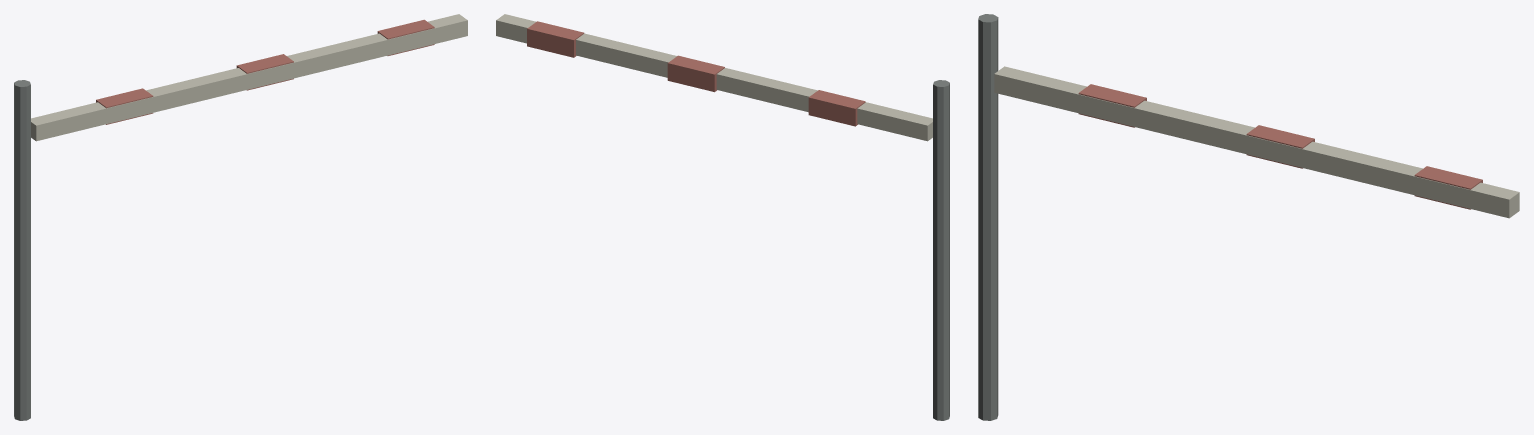
Rendered from road_gate.glb.
The picture shows the model from 3 angles, left to right: view 1: azimuth 30°, elevation 25°; view 2: azimuth 150°, elevation 25°; view 3: azimuth 330°, elevation 25°; orthographic projection. The views are drawn at different scales.
Parts seen in each view (by area): view 1: arm_1, post_0, stripe_2, stripe_3, stripe_4; view 2: arm_1, post_0, stripe_3, stripe_2, stripe_4; view 3: arm_1, post_0, stripe_3, stripe_4, stripe_2.
Part boxes in pixels (x1=…): arm_1: x1=31, y1=14, x2=467, y2=141; post_0: x1=14, y1=80, x2=30, y2=420; stripe_2: x1=96, y1=88, x2=153, y2=124; stripe_3: x1=236, y1=54, x2=293, y2=90; stripe_4: x1=377, y1=19, x2=434, y2=55; arm_1: x1=496, y1=14, x2=932, y2=141; post_0: x1=933, y1=80, x2=949, y2=420; stripe_3: x1=667, y1=55, x2=724, y2=92; stripe_2: x1=808, y1=90, x2=865, y2=126; stripe_4: x1=527, y1=21, x2=584, y2=57; arm_1: x1=994, y1=66, x2=1519, y2=218; post_0: x1=978, y1=14, x2=998, y2=420; stripe_3: x1=1246, y1=125, x2=1314, y2=168; stripe_4: x1=1414, y1=166, x2=1482, y2=209; stripe_2: x1=1078, y1=84, x2=1146, y2=127.
Bounding box in the file's own units: 4.78 × 3.4 × 0.195.
